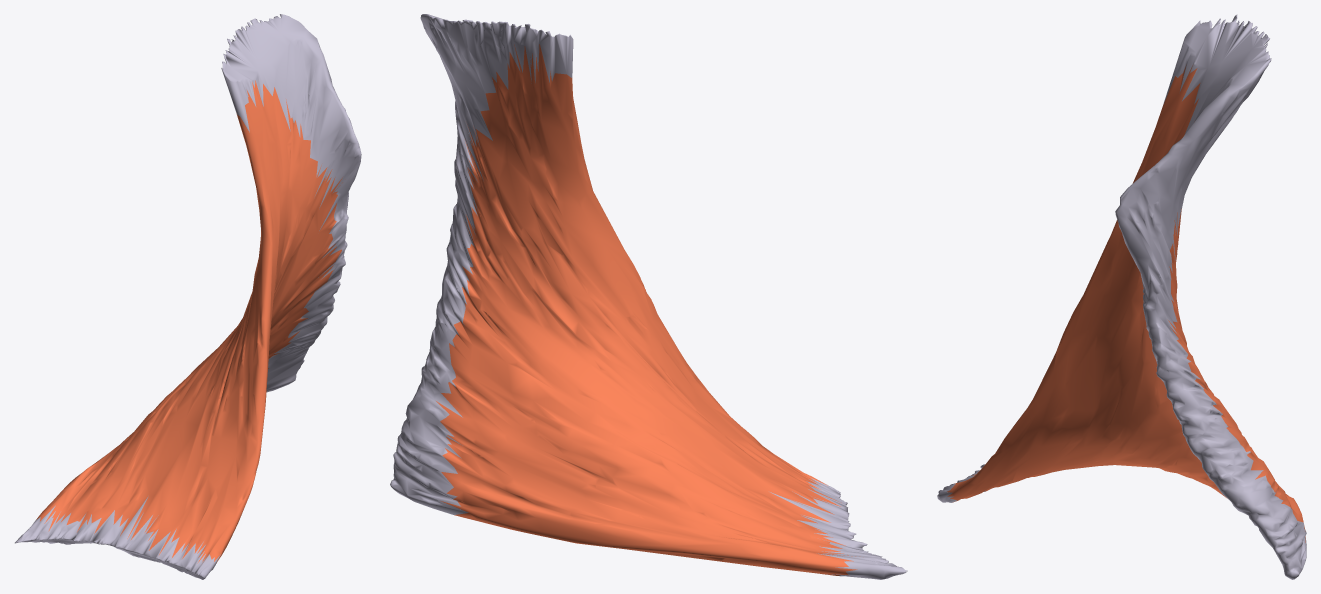
Rendered from Ascending_part_of_trapezius_muscle.r_Generated_Mesh_From_X3D.10.glb.
3 views of the same model, side by side, from view 1: azimuth 30°, elevation 25°; view 2: azimuth 150°, elevation 25°; view 3: azimuth 270°, elevation 25° (orthographic). The views are drawn at different scales.
Parts seen in each view (by area): view 1: Ascending_part_of_trapezius_muscle.r_Generated_Mesh_From_X3D; view 2: Ascending_part_of_trapezius_muscle.r_Generated_Mesh_From_X3D; view 3: Ascending_part_of_trapezius_muscle.r_Generated_Mesh_From_X3D.
Boxes of the visible parts, x1,y1,x2,y2 form: Ascending_part_of_trapezius_muscle.r_Generated_Mesh_From_X3D: [15, 14, 361, 579]; Ascending_part_of_trapezius_muscle.r_Generated_Mesh_From_X3D: [390, 14, 907, 579]; Ascending_part_of_trapezius_muscle.r_Generated_Mesh_From_X3D: [937, 14, 1306, 579].
Size of the model in its own units: 0.1356 by 0.1592 by 0.0921.
